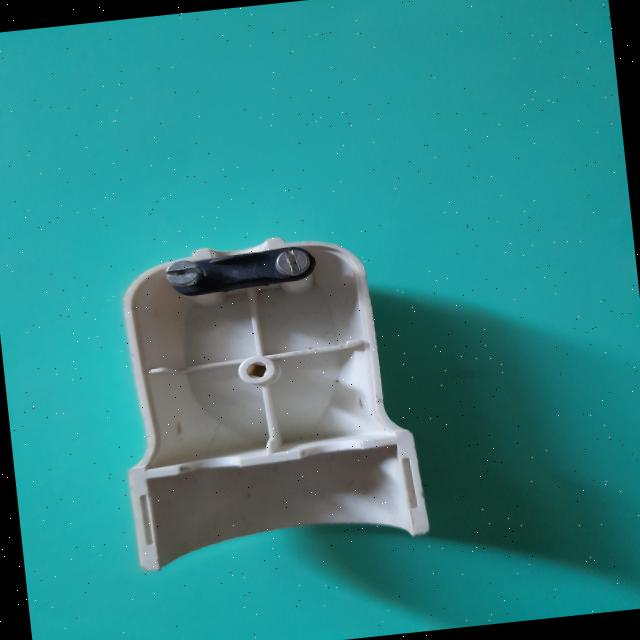Slotted: (164, 258, 202, 288), (274, 247, 310, 277)
